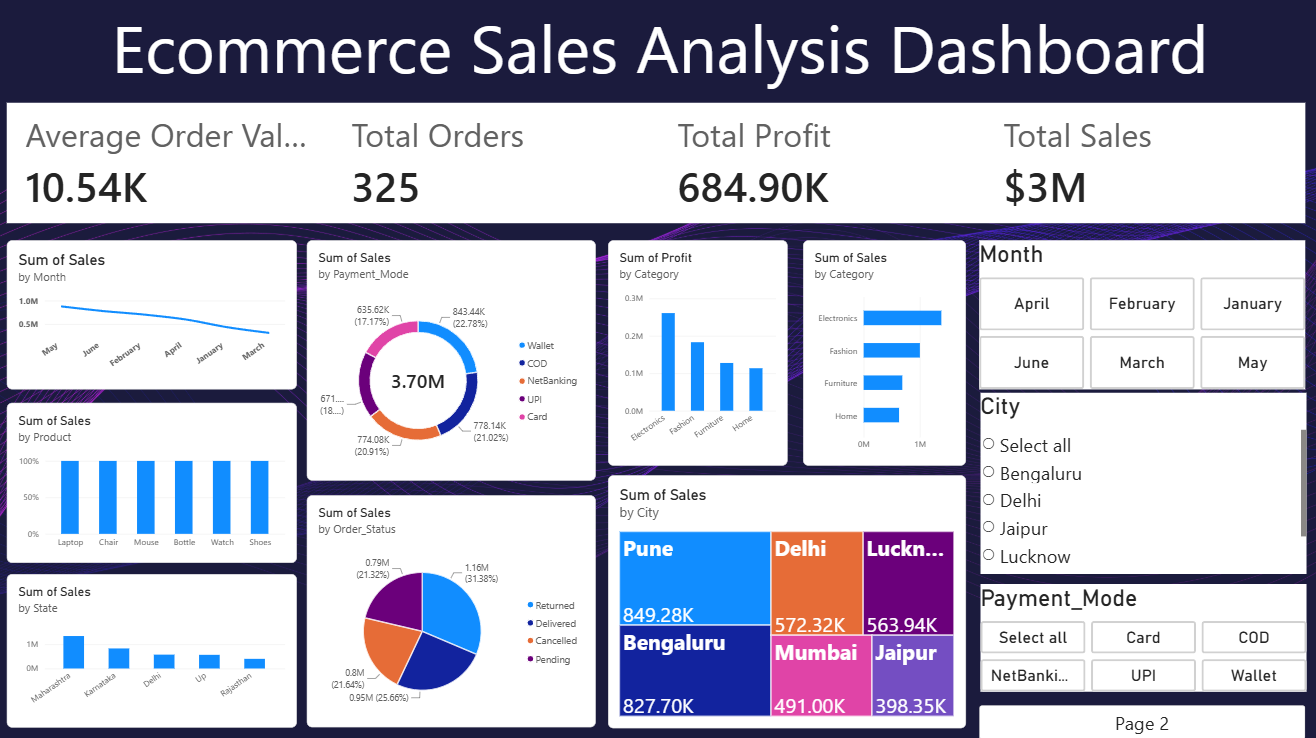

Layout of this report page (visuals, bound fields, positions):
{"tool":"powerbi","page":{"name":"Page 1","canvas":[1920,1080],"ordinal":0},"visuals":[{"type":"cardVisual","fields":{"Data":["DAX Measure.Average Order Value","DAX Measure.Total Orders","DAX Measure.Total Profit","DAX Measure.Total Sales","DAX Measure.Average Order Value"]},"box":[20,158,1880,174],"z":0},{"type":"textbox","box":[10,10,1910,147.5],"z":1000},{"type":"lineChart","fields":{"Category":["public orders.Month"],"Y":["Sum(public orders.Sales)"]},"box":[20,356,420,216],"z":2000},{"type":"barChart","fields":{"Category":["public orders.Category"],"Y":["Sum(public orders.Sales)"]},"box":[1172,356,236,326],"z":3000},{"type":"hundredPercentStackedColumnChart","fields":{"Category":["public orders.Product"],"Y":["Sum(public orders.Sales)"]},"box":[20,592,420,232],"z":4000},{"type":"treemap","fields":{"Group":["public orders.City"],"Values":["Sum(public orders.Sales)"]},"box":[890,696,518,366],"z":5000},{"type":"donutChart","fields":{"Category":["public orders.Payment_Mode"],"Y":["Sum(public orders.Sales)"]},"box":[454,356,418,348],"z":6000},{"type":"pieChart","fields":{"Category":["public orders.Order_Status"],"Y":["Sum(public orders.Sales)"]},"box":[454,726,418,336],"z":7000},{"type":"columnChart","fields":{"Category":["public orders.State"],"Y":["Sum(public orders.Sales)"]},"box":[20,840,420,222],"z":8000},{"type":"columnChart","fields":{"Category":["public orders.Category"],"Y":["Sum(public orders.Profit)"]},"box":[890,356,260,326],"z":9000},{"type":"advancedSlicerVisual","fields":{"Values":["public orders.Month"]},"box":[1428,356,472,216],"z":10000},{"type":"listSlicer","fields":{"Values":["public orders.City"]},"box":[1429.6,577.3,472,262],"z":11000},{"type":"advancedSlicerVisual","fields":{"Values":["public orders.Payment_Mode"]},"box":[1429.6,854.2,472.3,155.6],"z":12000},{"type":"pageNavigator","box":[1427.8,1029.7,472.3,50.7],"z":13000}]}

Visuals, with their boxes in screenshot pixels (x1, y1, x2, y2), scaled from the page's 1920x1080 canvas onto the 1316x738 screenshot:
cardVisual - DAX Measure.Average Order Value x DAX Measure.Total Orders: [x1=14, y1=108, x2=1302, y2=227]
textbox: [x1=7, y1=7, x2=1315, y2=108]
lineChart - public orders.Month x Sum(public orders.Sales): [x1=14, y1=243, x2=302, y2=391]
barChart - public orders.Category x Sum(public orders.Sales): [x1=803, y1=243, x2=965, y2=466]
hundredPercentStackedColumnChart - public orders.Product x Sum(public orders.Sales): [x1=14, y1=405, x2=302, y2=563]
treemap - public orders.City x Sum(public orders.Sales): [x1=610, y1=476, x2=965, y2=726]
donutChart - public orders.Payment_Mode x Sum(public orders.Sales): [x1=311, y1=243, x2=598, y2=481]
pieChart - public orders.Order_Status x Sum(public orders.Sales): [x1=311, y1=496, x2=598, y2=726]
columnChart - public orders.State x Sum(public orders.Sales): [x1=14, y1=574, x2=302, y2=726]
columnChart - public orders.Category x Sum(public orders.Profit): [x1=610, y1=243, x2=788, y2=466]
advancedSlicerVisual - public orders.Month: [x1=979, y1=243, x2=1302, y2=391]
listSlicer - public orders.City: [x1=980, y1=394, x2=1303, y2=574]
advancedSlicerVisual - public orders.Payment_Mode: [x1=980, y1=584, x2=1304, y2=690]
pageNavigator: [x1=979, y1=704, x2=1302, y2=737]
